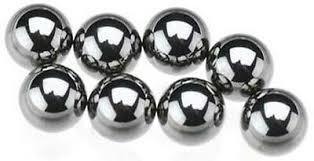steelball: (153, 78, 229, 151), (3, 1, 75, 75), (236, 85, 309, 156), (13, 64, 87, 131), (72, 8, 142, 78), (86, 73, 155, 141), (209, 31, 279, 95), (144, 7, 209, 75)
